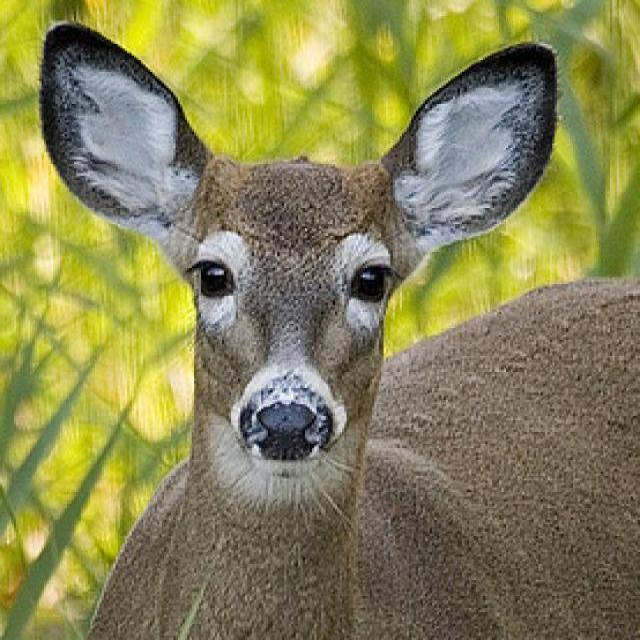deer: (46, 27, 633, 625)
